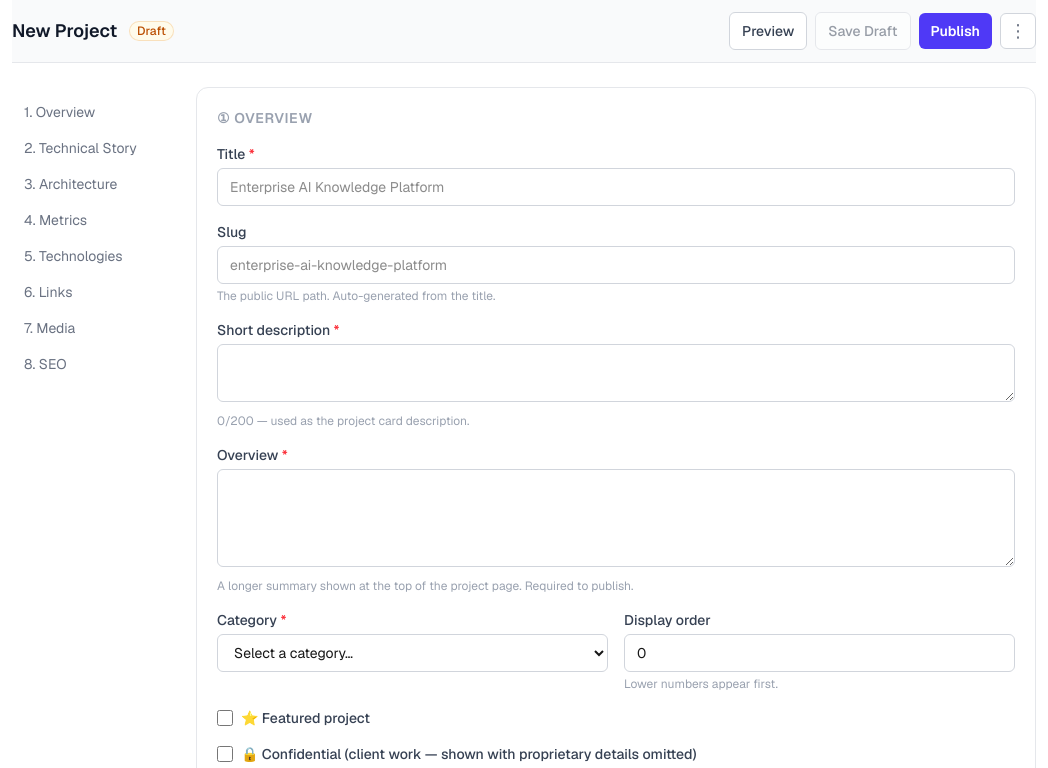
ProjectEditor › auto-generates the slug from the title
In the field labelled "Title *": (616, 187) [217,168,1015,206], type "Enterprise AI Platform"
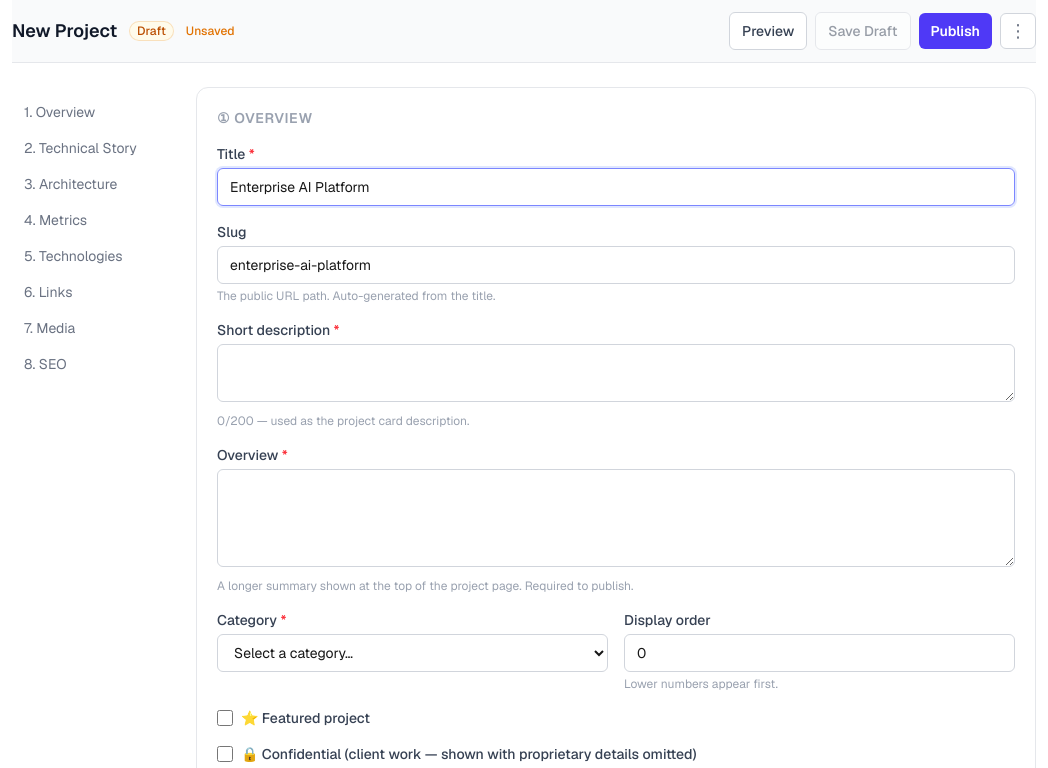
Check: the field labelled "Slug The public URL path. Auto-generated from the title." holds "enterprise-ai-platform", box [217,246,1015,284]
